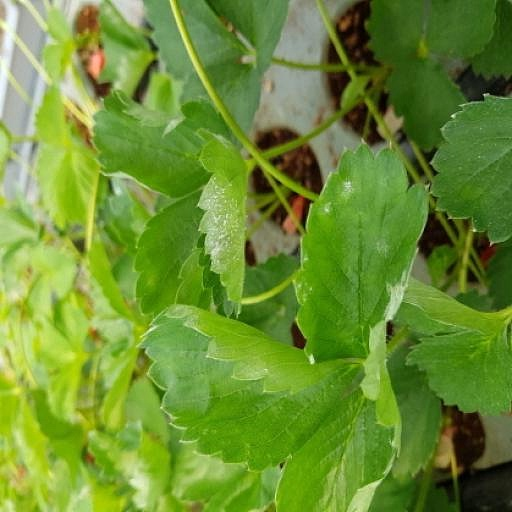Powdery Mildew Leaf: (82, 146, 220, 372), (265, 192, 317, 385)
